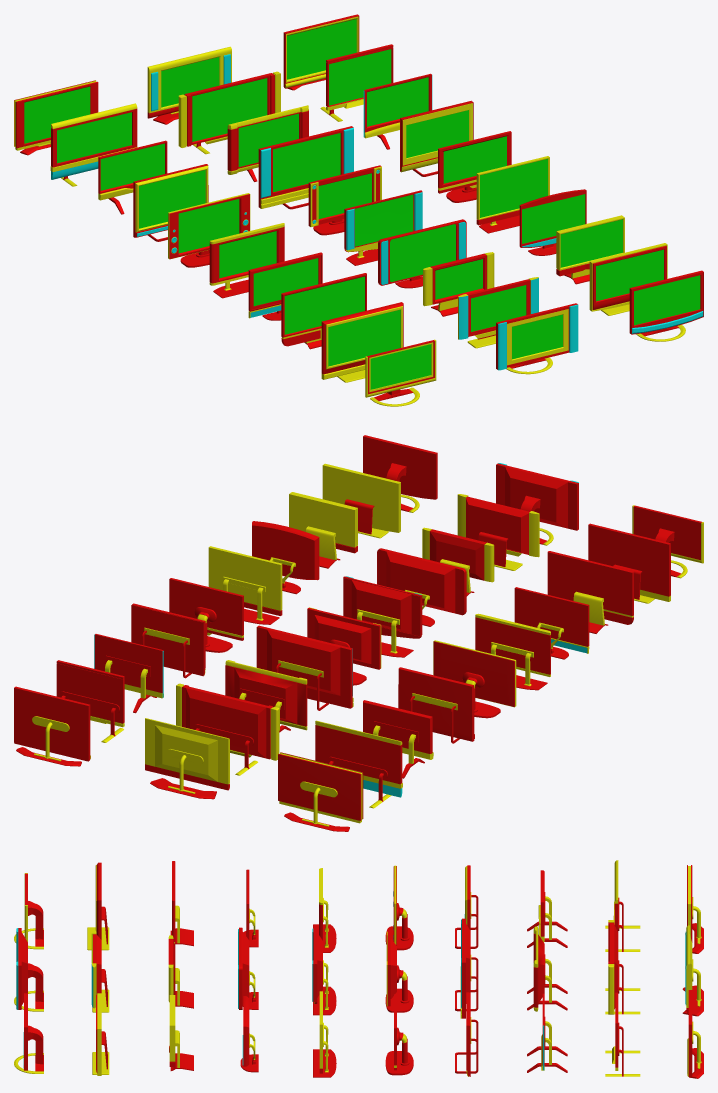
File: televisions_grp.fbx
3 renders of one model, top to bottom at view 1: azimuth 30°, elevation 25°; view 2: azimuth 150°, elevation 25°; view 3: azimuth 270°, elevation 25°, orthographic. The views are drawn at different scales.
Visible parts, largest first — view 1: television_17, television_19, television_9, television_2, television_11, television_3, television_14, television_30, television_21, television_20, television_7, television_6 (+18 smaller); view 2: television_17, television_19, television_20, television_10, television_30, television_3, television_14, television_2, television_9, television_7, television_11, television_12 (+35 smaller); view 3: television_19, television_17, television_18, television_11, television_14, television_stand_26, television_15, television_12, television_16, television_stand_25, television_stand_16, television_stand_21 (+30 smaller).
Part boxes in pixels (x1,y1,x2,y2): television_17: (258,126,353,208); television_19: (178,71,280,147); television_9: (50,103,137,179); television_2: (321,302,403,379); television_11: (496,303,578,370); television_3: (281,273,366,346); television_14: (378,219,466,285); television_30: (283,14,359,88); television_21: (629,270,703,334); television_20: (147,46,231,118); television_7: (133,164,208,237); television_6: (168,193,250,259); television_17: (256,625,353,708); television_19: (176,683,279,760); television_20: (145,718,229,790); television_10: (278,752,363,823); television_30: (14,686,90,761); television_3: (547,551,633,624); television_14: (377,548,466,615); television_2: (588,523,670,601); television_9: (315,720,402,797); television_7: (398,667,474,741); television_11: (496,463,578,530); television_12: (457,494,539,557); television_19: (608,920,618,1014); television_17: (460,918,470,1018); television_18: (533,926,544,1011); television_11: (16,928,27,1009); television_14: (238,927,249,1009); television_stand_26: (385,1027,413,1075); television_15: (312,927,322,1003); television_12: (91,929,101,1008); television_16: (386,931,396,1006); television_stand_25: (313,1022,336,1077); television_stand_16: (385,965,413,1012); television_stand_21: (14,1025,43,1073).
Bounding box in the file's own units: 521 × 91.02 × 935.
